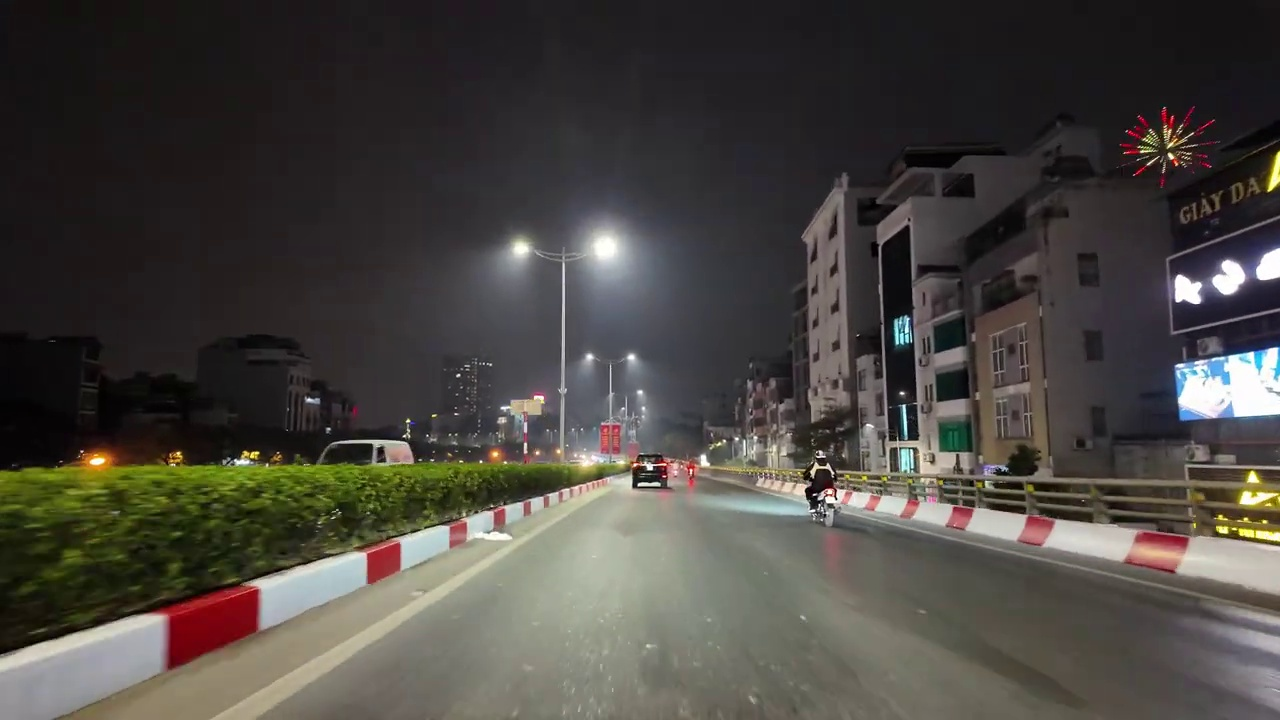acesa: (588, 229, 622, 263), (505, 234, 536, 264), (623, 350, 645, 375)
